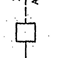Cable Termination Box: (13, 19, 42, 45)
